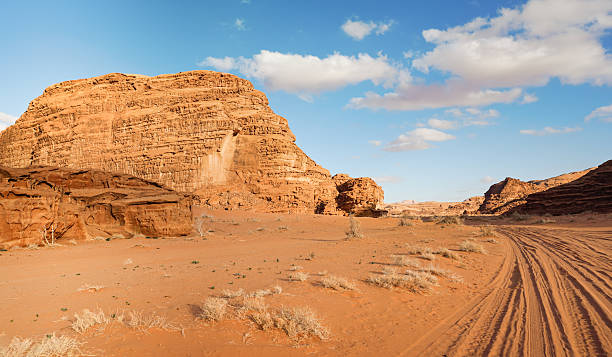vehicle_track: (403, 226, 611, 355)
